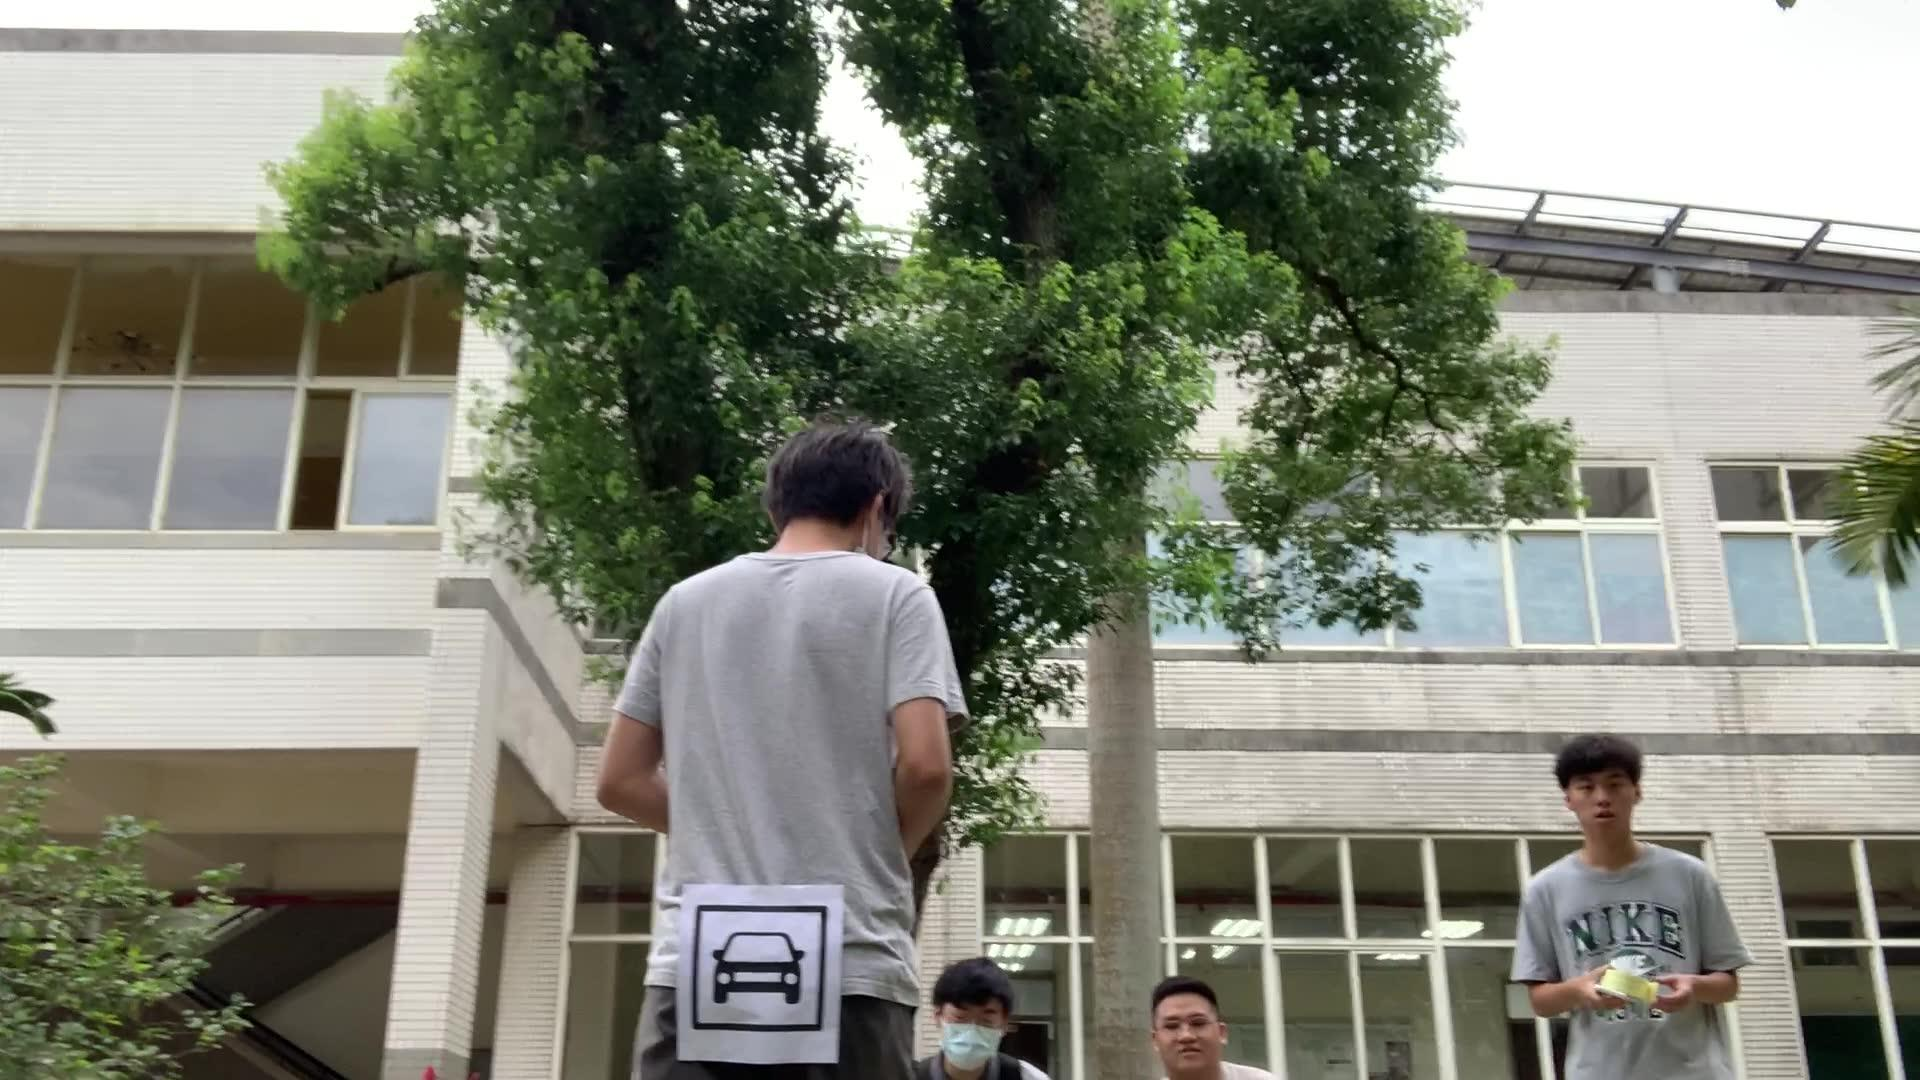car_img: (691, 903, 828, 1034)
